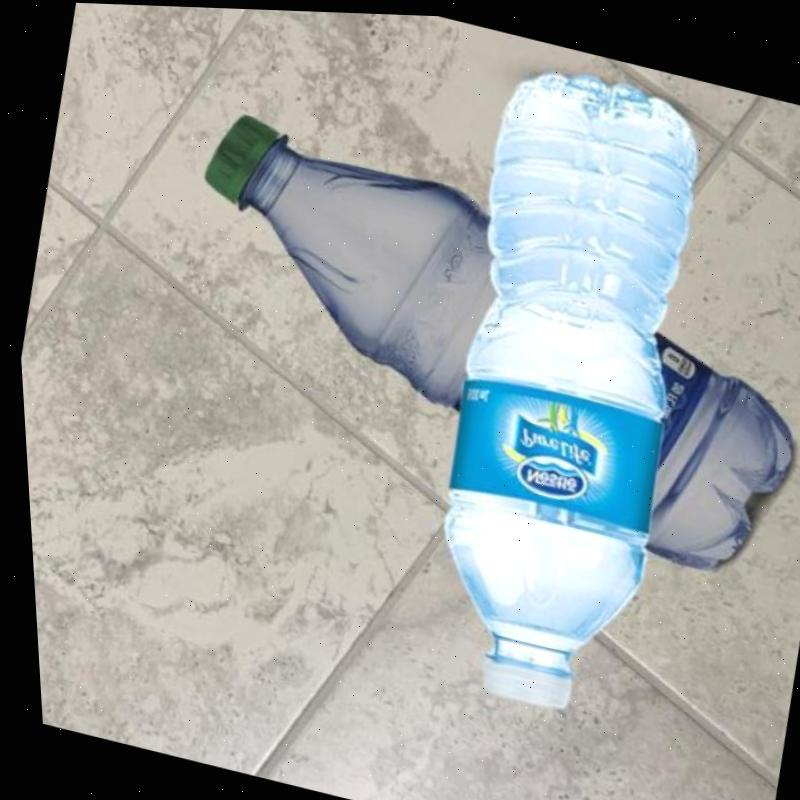botella: (144, 101, 800, 584), (376, 48, 744, 728)
